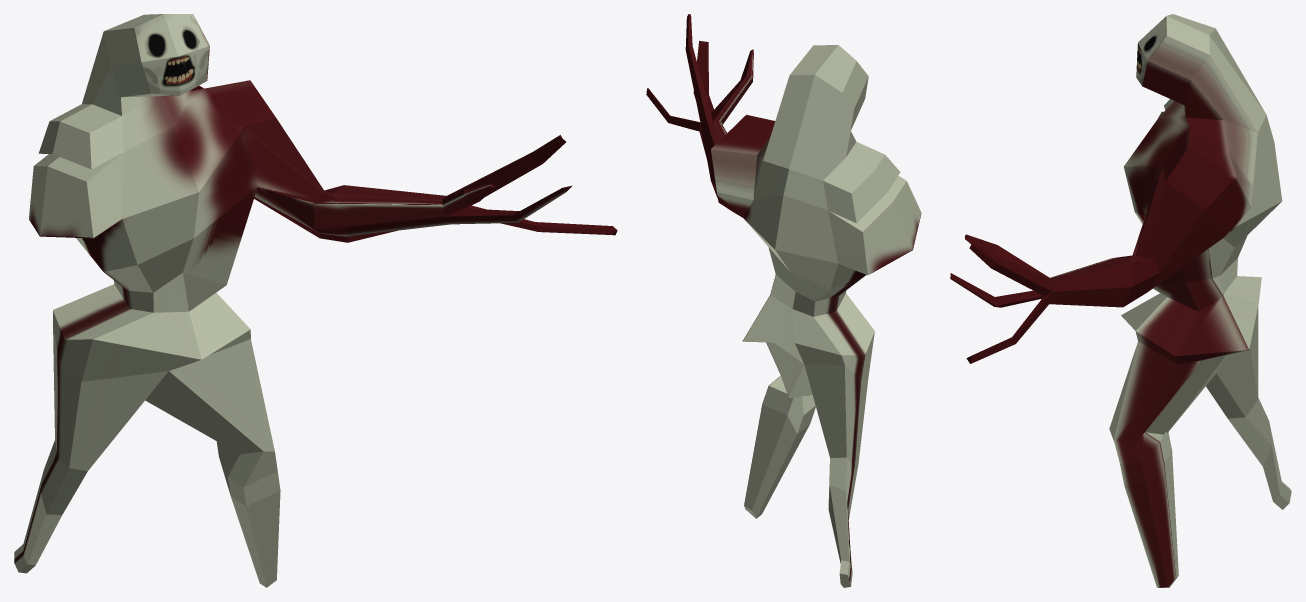
The model's file is arisa_cowe_bloodied_low_poly_monster.fbx.
The picture shows the model from 3 angles, left to right: view 1: azimuth 30°, elevation 25°; view 2: azimuth 150°, elevation 25°; view 3: azimuth 270°, elevation 25°; orthographic projection. The views are drawn at different scales.
Visible parts, largest first — view 1: Cube; view 2: Cube; view 3: Cube.
Part boxes in pixels (x1,y1,x2,y2): Cube: (14,14,617,587); Cube: (646,14,921,587); Cube: (950,14,1291,587).
Bounding box in the file's own units: 2.17 × 1.6 × 2.74.
Materials: 1 (1 with a texture image).
